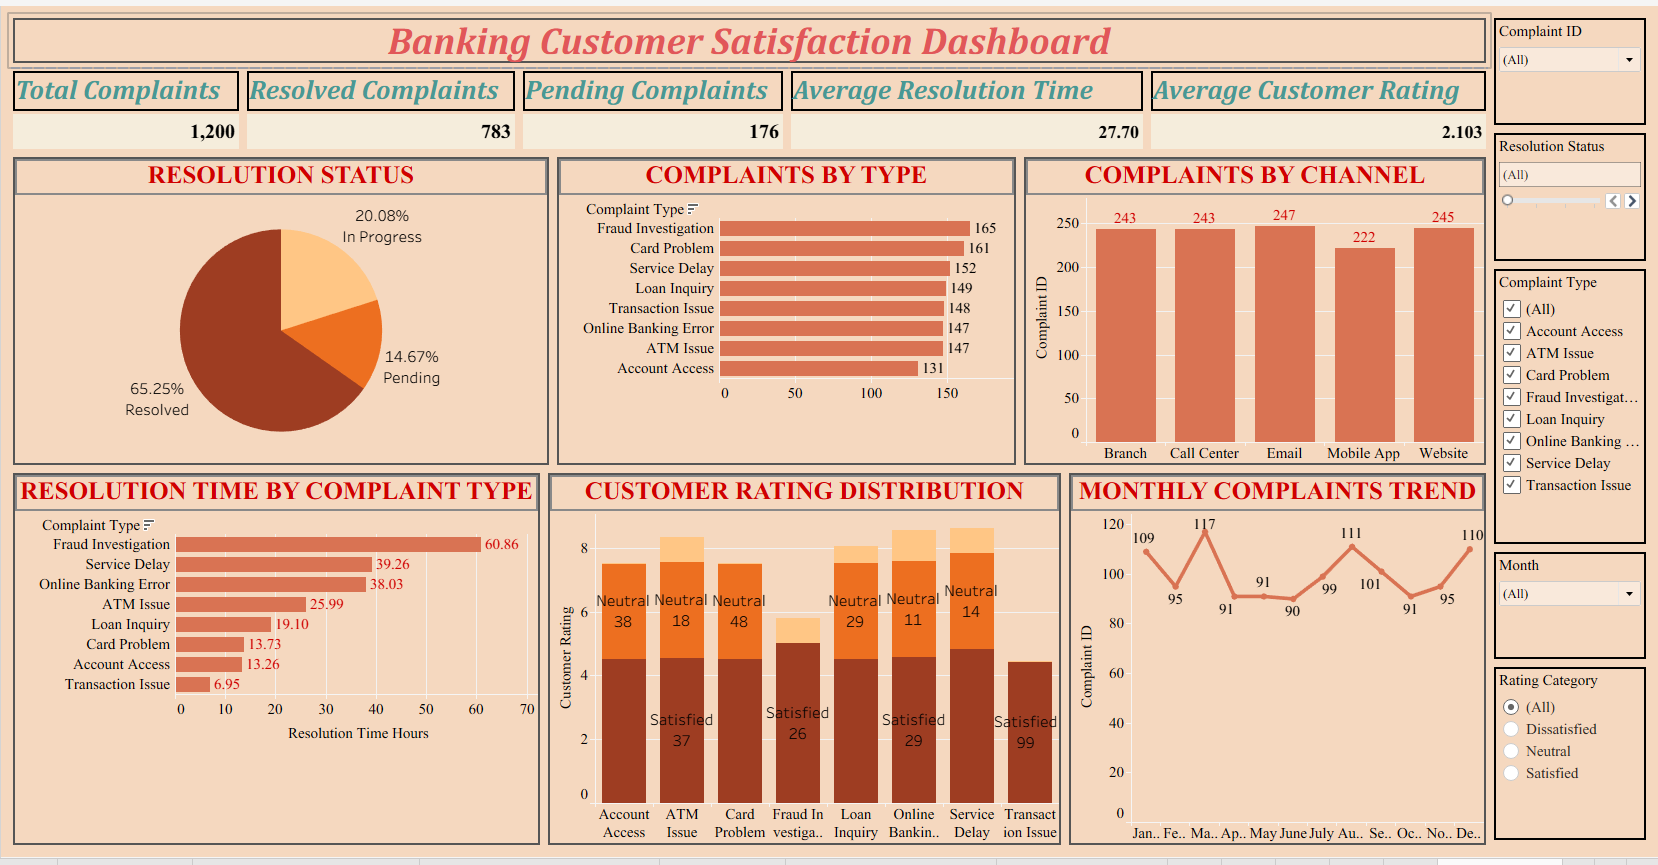

The dashboard page shown, as its layout file describes it:
{"tool":"tableau","page":{"name":"Dashboard 1","canvas":[1000,1000],"units":"permille","ordinal":0},"visuals":[{"type":"title","box":[4.8,9.4,893.8,62.3]},{"type":"filter","title":"Complaints by Type","param":"[federated.114ky6905pve0a1a5ja9h0w4gv0w].[none:Complaint_ID:nk]","box":[898.6,9.4,96.6,135.1]},{"type":"worksheet","title":"KPI 5","mark":"Automatic","box":[4.8,71.7,141.2,101.1]},{"type":"worksheet","title":"KPI 4","mark":"Automatic","box":[146.1,71.7,166.6,101.1]},{"type":"worksheet","title":"KPI 3","mark":"Automatic","box":[312.6,71.7,161.7,101.1]},{"type":"worksheet","title":"KPI 2","mark":"Automatic","box":[474.4,71.7,217.2,101.1]},{"type":"worksheet","title":"KPI 1","mark":"Automatic","box":[691.6,71.7,207,101.1]},{"type":"filter","title":"Resolution Status","param":"[federated.114ky6905pve0a1a5ja9h0w4gv0w].[none:Resolution_Status:nk]","box":[898.6,144.5,96.6,159.8]},{"type":"worksheet","title":"Resolution Status","mark":"Pie","box":[4.8,172.7,328.2,371.3]},{"type":"worksheet","title":"Complaints by Type","mark":"Bar","rows":["Complaint_Type"],"cols":["Calculation_0675408710397952"],"box":[333,172.7,282,371.3]},{"type":"worksheet","title":"Complaints by Channel","mark":"Bar","rows":["Complaint_ID"],"cols":["Channel"],"box":[615,172.7,283.6,371.3]},{"type":"filter","title":"Resolution Time by Complaint Type","param":"[federated.114ky6905pve0a1a5ja9h0w4gv0w].[none:Complaint_Type:nk]","box":[898.6,304.3,96.6,332.6]},{"type":"worksheet","title":"Resolution Time by Complaint Type","mark":"Automatic","rows":["Complaint_Type"],"cols":["Resolution_Time_Hours"],"box":[4.8,544.1,320.2,446.5]},{"type":"worksheet","title":"Customer Rating Distribution","mark":"Bar","rows":["Calculation_0675408746172424"],"cols":["Complaint_Type"],"box":[325.1,544.1,312.2,446.5]},{"type":"worksheet","title":"Monthly Complaint Trend","mark":"Line","rows":["Complaint_ID"],"cols":["Calculation_0675408720289798"],"box":[637.3,544.1,261.3,446.5]},{"type":"filter","title":"Monthly Complaint Trend","param":"[federated.114ky6905pve0a1a5ja9h0w4gv0w].[none:Calculation_0675408720289798:nk]","box":[898.6,636.9,96.6,135.1]},{"type":"filter","title":"Customer Rating Distribution","param":"[federated.114ky6905pve0a1a5ja9h0w4gv0w].[none:Calculation_0675408750669833:nk]","box":[898.6,772,96.6,212.7]}]}

Visuals, with their boxes on the dashboard's canvas, which has no fixed pixel size, in thousandths of its width and height (x1, y1, x2, y2). These are canvas units, not pixel positions in the 1658x865 screenshot, which may show the page scaled, cropped or inside an application window:
title: detection(5, 9, 899, 72)
"Complaints by Type" filter: detection(899, 9, 995, 144)
"KPI 5" worksheet: detection(5, 72, 146, 173)
"KPI 4" worksheet: detection(146, 72, 313, 173)
"KPI 3" worksheet: detection(313, 72, 474, 173)
"KPI 2" worksheet: detection(474, 72, 692, 173)
"KPI 1" worksheet: detection(692, 72, 899, 173)
"Resolution Status" filter: detection(899, 144, 995, 304)
"Resolution Status" worksheet (Pie marks): detection(5, 173, 333, 544)
"Complaints by Type" worksheet (Bar marks): detection(333, 173, 615, 544)
"Complaints by Channel" worksheet (Bar marks): detection(615, 173, 899, 544)
"Resolution Time by Complaint Type" filter: detection(899, 304, 995, 637)
"Resolution Time by Complaint Type" worksheet: detection(5, 544, 325, 991)
"Customer Rating Distribution" worksheet (Bar marks): detection(325, 544, 637, 991)
"Monthly Complaint Trend" worksheet (Line marks): detection(637, 544, 899, 991)
"Monthly Complaint Trend" filter: detection(899, 637, 995, 772)
"Customer Rating Distribution" filter: detection(899, 772, 995, 985)
